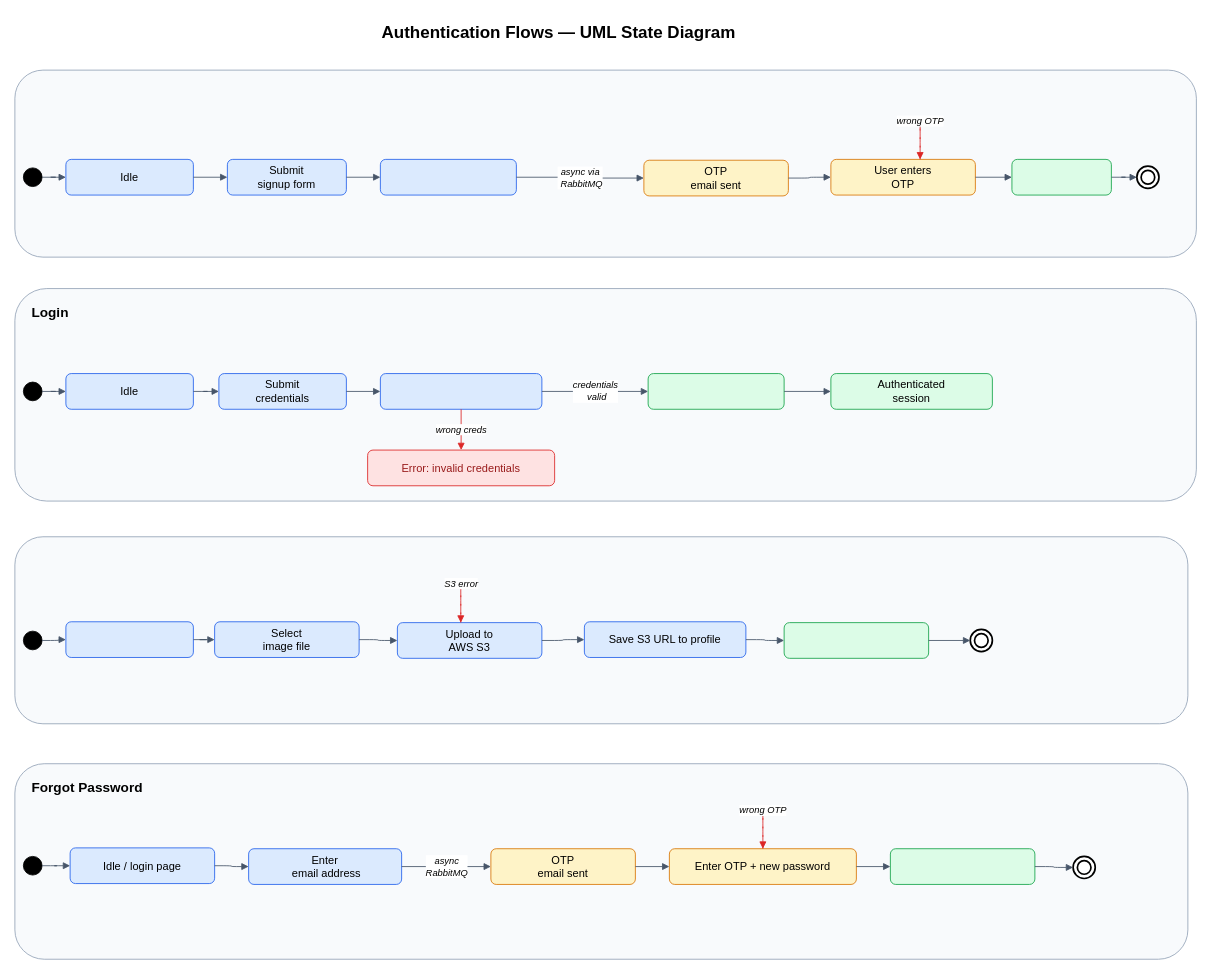
Image size: 1211x974. Some labels were removed from this diagram. Here are the shapes that lost their labels. From the top down, the box of each, then its label:
(380, 159, 516, 195): Keycloak user created
(14, 69, 1196, 257): Register
(1011, 159, 1111, 195): Email verified
(380, 373, 542, 409): Keycloak authenticates
(647, 373, 784, 409): JWT issued
(65, 621, 193, 657): Authenticated
(14, 536, 1188, 724): Set Avatar
(783, 622, 929, 658): Avatar updated
(890, 848, 1035, 884): Password reset
